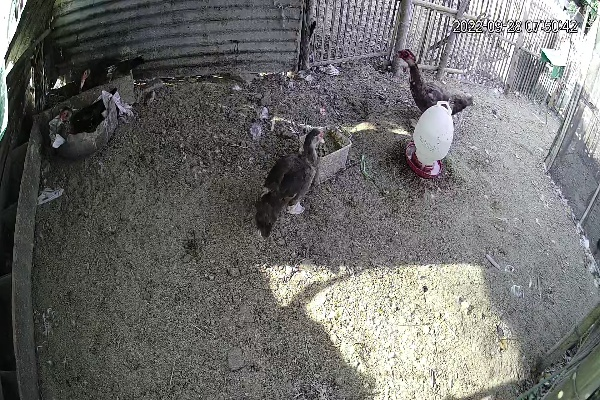Entog: (252, 127, 327, 241), (389, 43, 478, 116)
